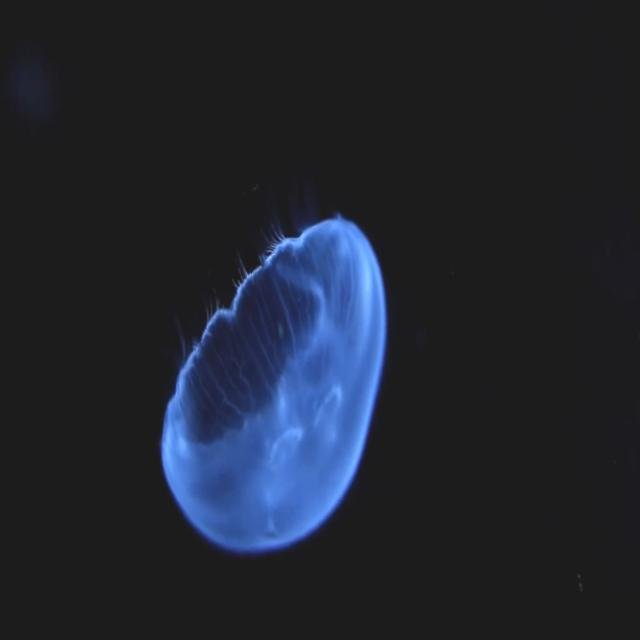Moon-jellyfish: (156, 218, 389, 563)
